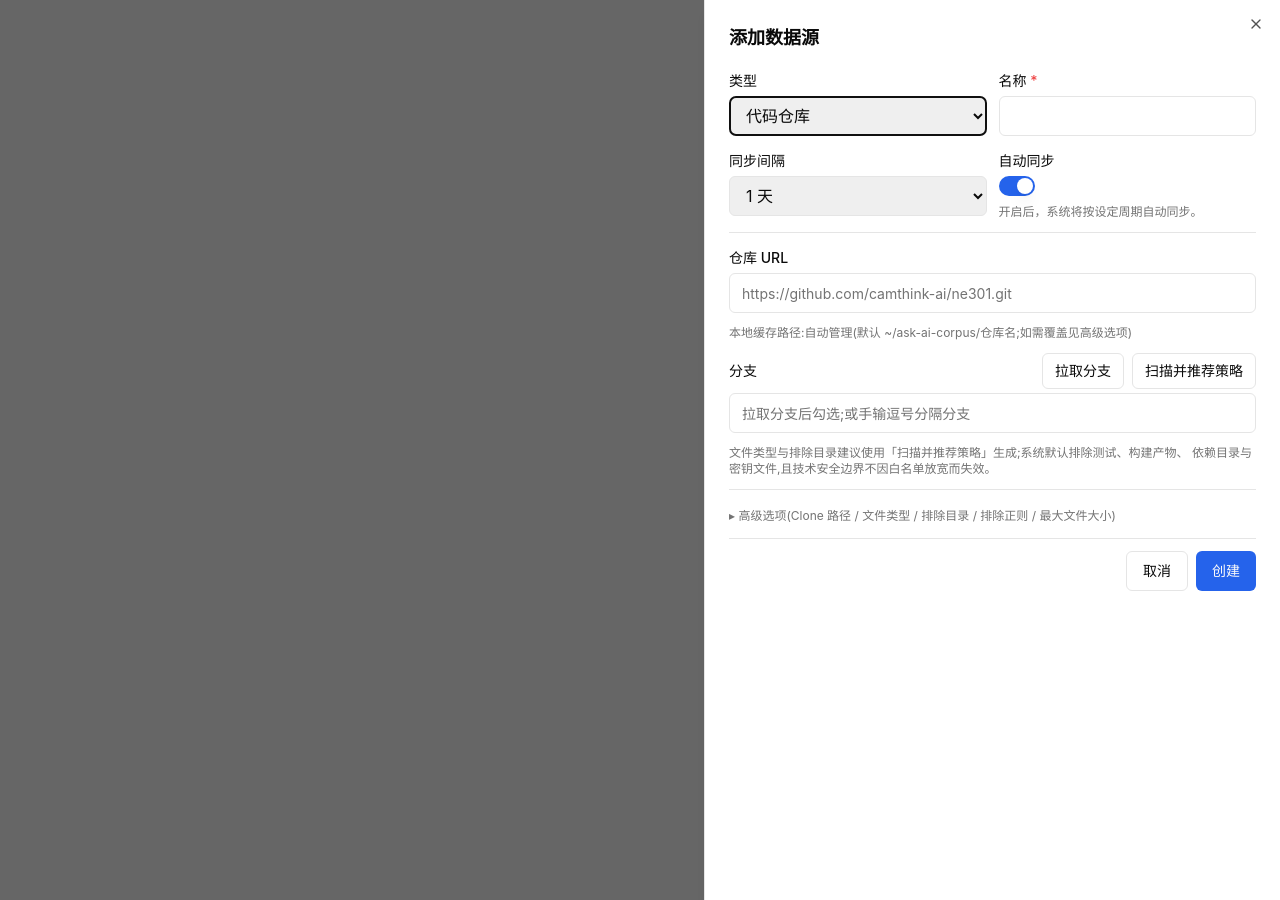
Test: Track B DEF-A3(DS-P5-04,U-5 冻结):类型 immutable 语义 › 新建态:类型选择保留且可选(切换类型呈现对应类型化字段)
Select "网站爬取" in the dropdown labelled "类型" at (858, 116), box x1=729 y1=96 x2=986 y2=136
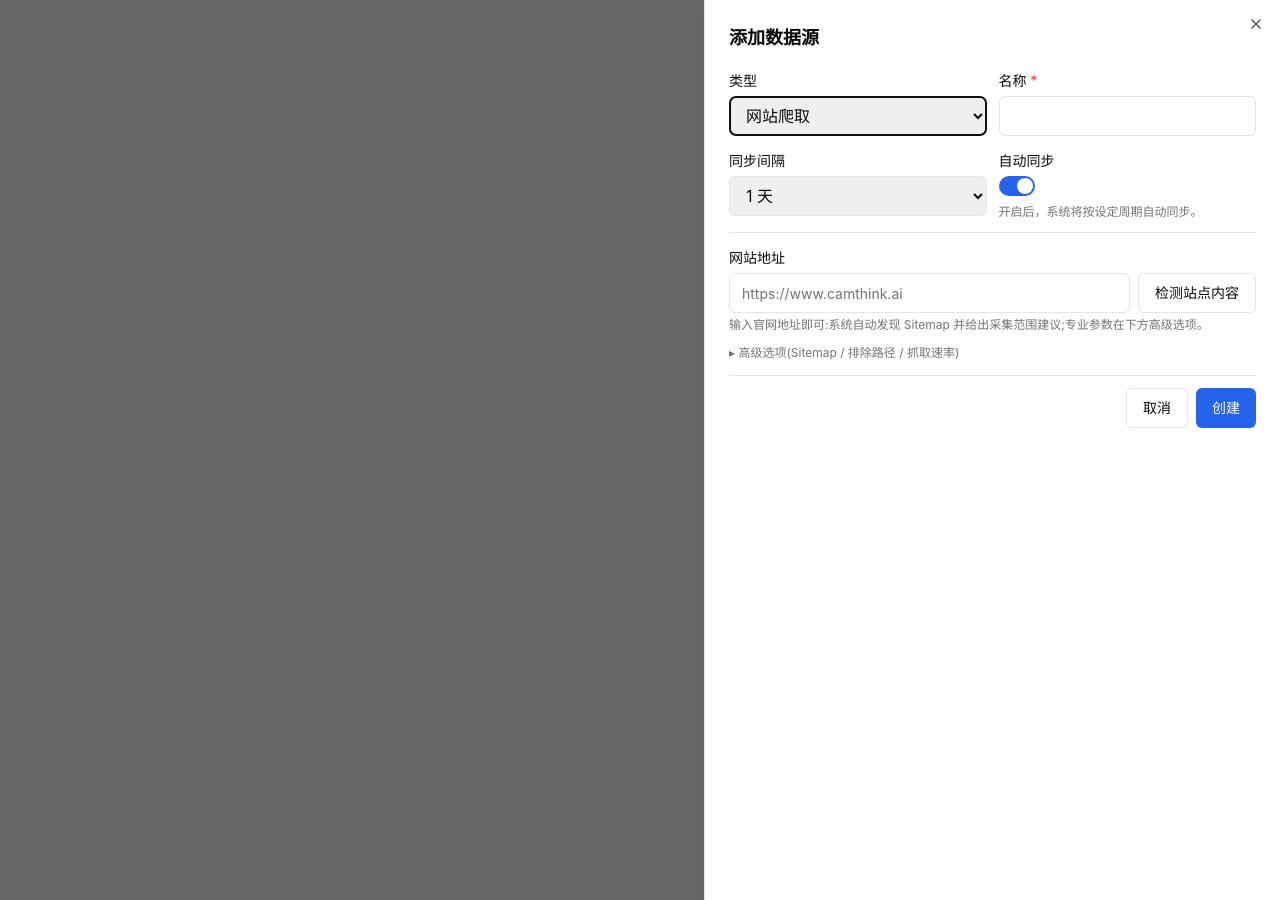
Expected: the text "网站地址" is shown, x1=729 y1=249 x2=785 y2=266
